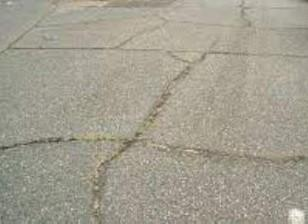alligator-crack: (2, 2, 308, 217)
